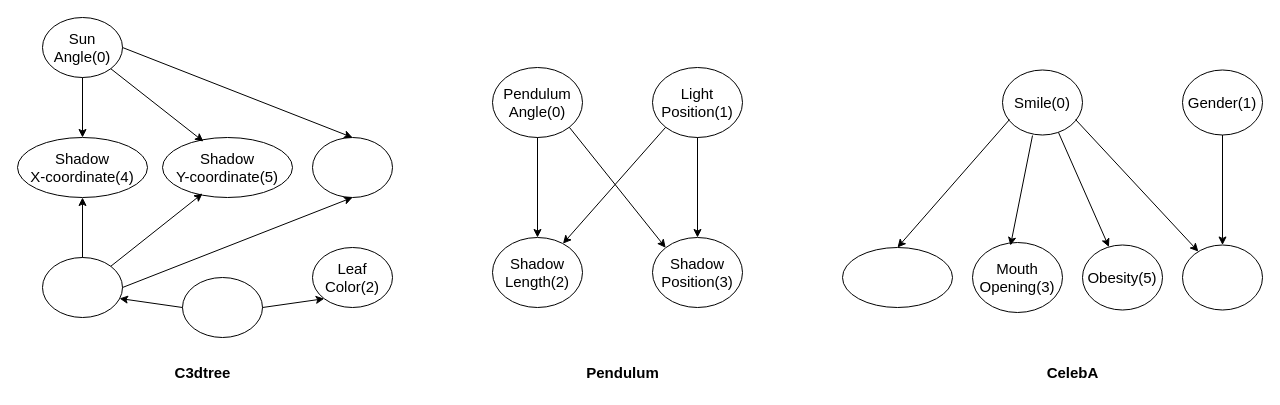
The diagram is 1280 pixels wide and 405 high, and some of its shapes have lost their labels. The shapes that lost their labels are listed below. From the top down, each one's centre as x and y in pixels, then its label:
(352,167): Shadow Area(6)
(82,287): Tree Size(3)
(897,277): Cheekbones(2)
(1222,277): Squint(4)
(222,307): Date(1)
